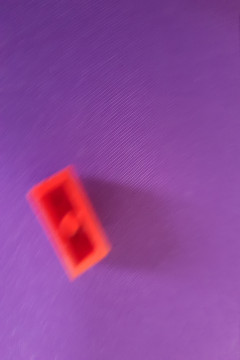1x2 red: (26, 165, 111, 281)
